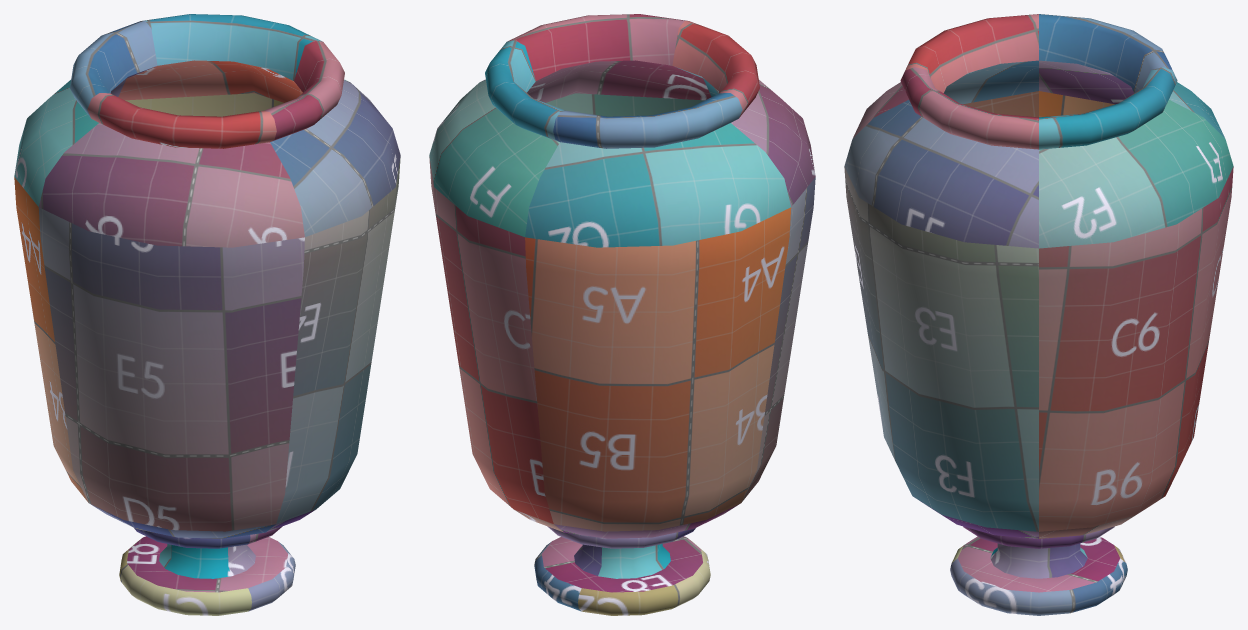
File: MediumUrn_SHAT.fbx
3 views of the same model, side by side, from view 1: azimuth 30°, elevation 25°; view 2: azimuth 150°, elevation 25°; view 3: azimuth 270°, elevation 25° (orthographic).
Parts seen in each view (by area): view 1: MediumUrn_SHAT.001; view 2: MediumUrn_SHAT.001; view 3: MediumUrn_SHAT.001.
Part boxes in pixels (left/top/right/bottom): MediumUrn_SHAT.001: left=14, top=14, right=400, bottom=615; MediumUrn_SHAT.001: left=429, top=14, right=815, bottom=615; MediumUrn_SHAT.001: left=844, top=14, right=1233, bottom=615.
Bounding box in the file's own units: 1.13 × 1.65 × 1.13.
1 material, 1 textured.
